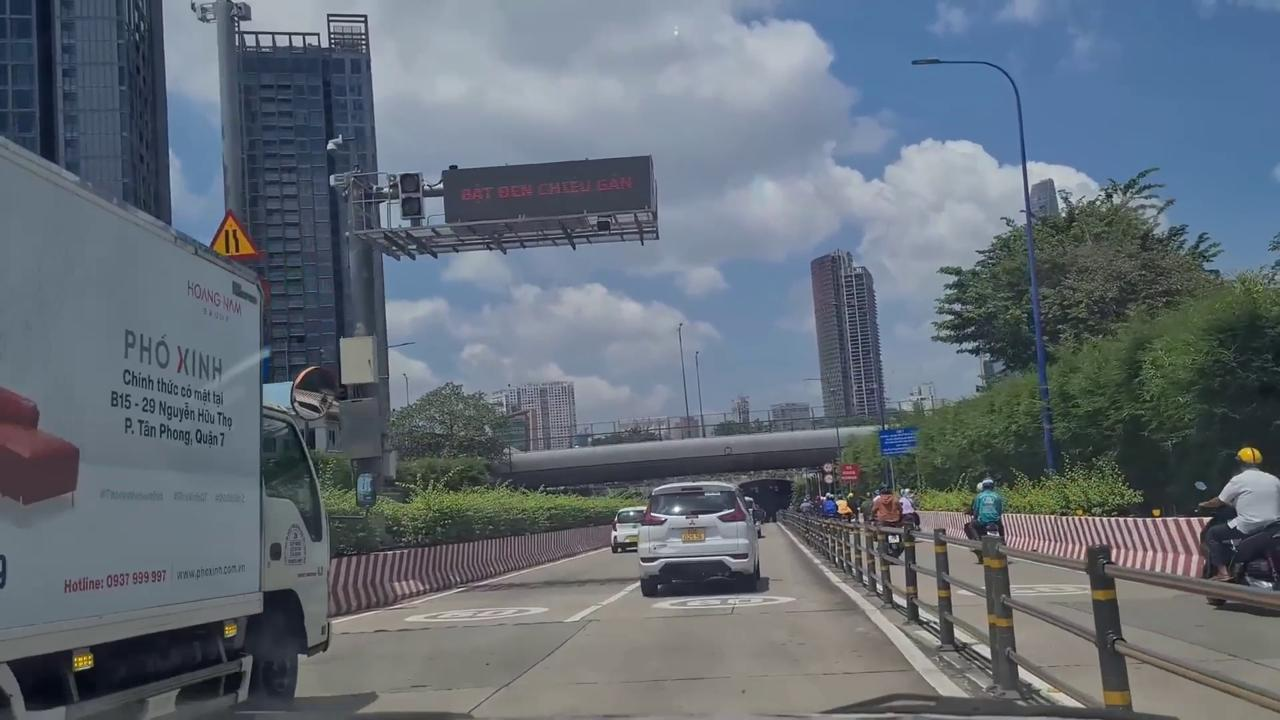Đuờng hẹp: (200, 208, 268, 263)
